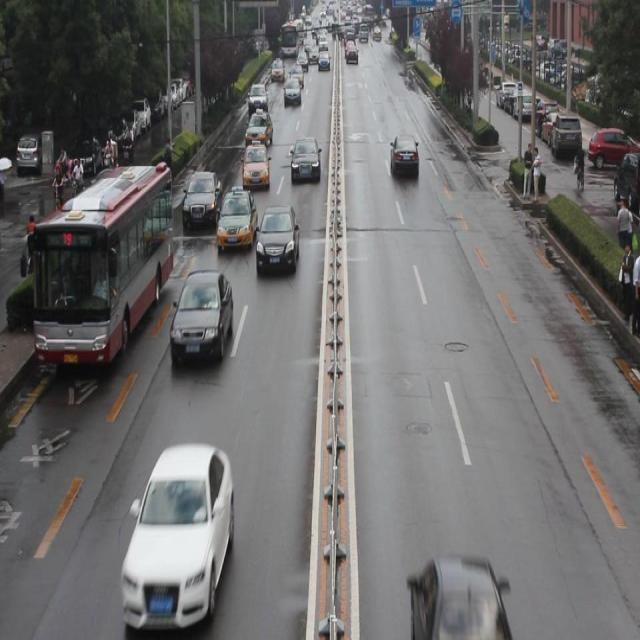car: (119, 442, 235, 626), (404, 554, 512, 640), (169, 270, 233, 366), (256, 204, 299, 278), (216, 184, 258, 252), (91, 170, 152, 214), (181, 170, 223, 229), (241, 139, 270, 189), (291, 138, 320, 184), (390, 135, 418, 179), (246, 109, 272, 148), (247, 82, 268, 114)
van: (21, 160, 173, 367)
